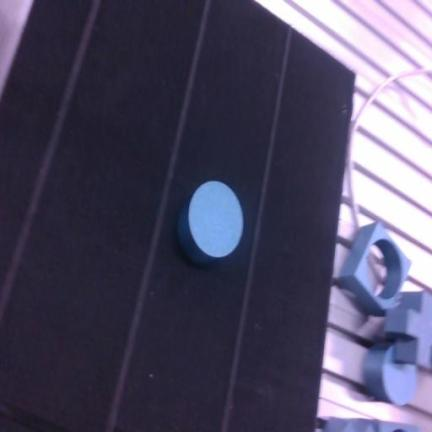cylinder: (178, 181, 243, 264)
